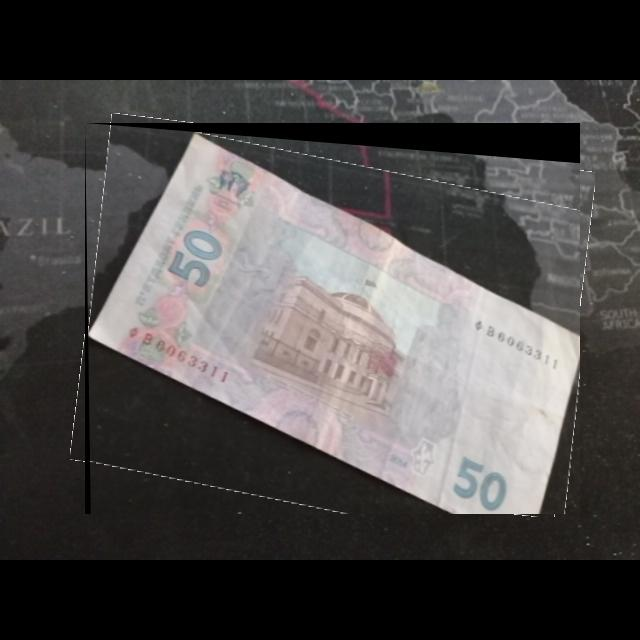50uah: (87, 131, 581, 515)
